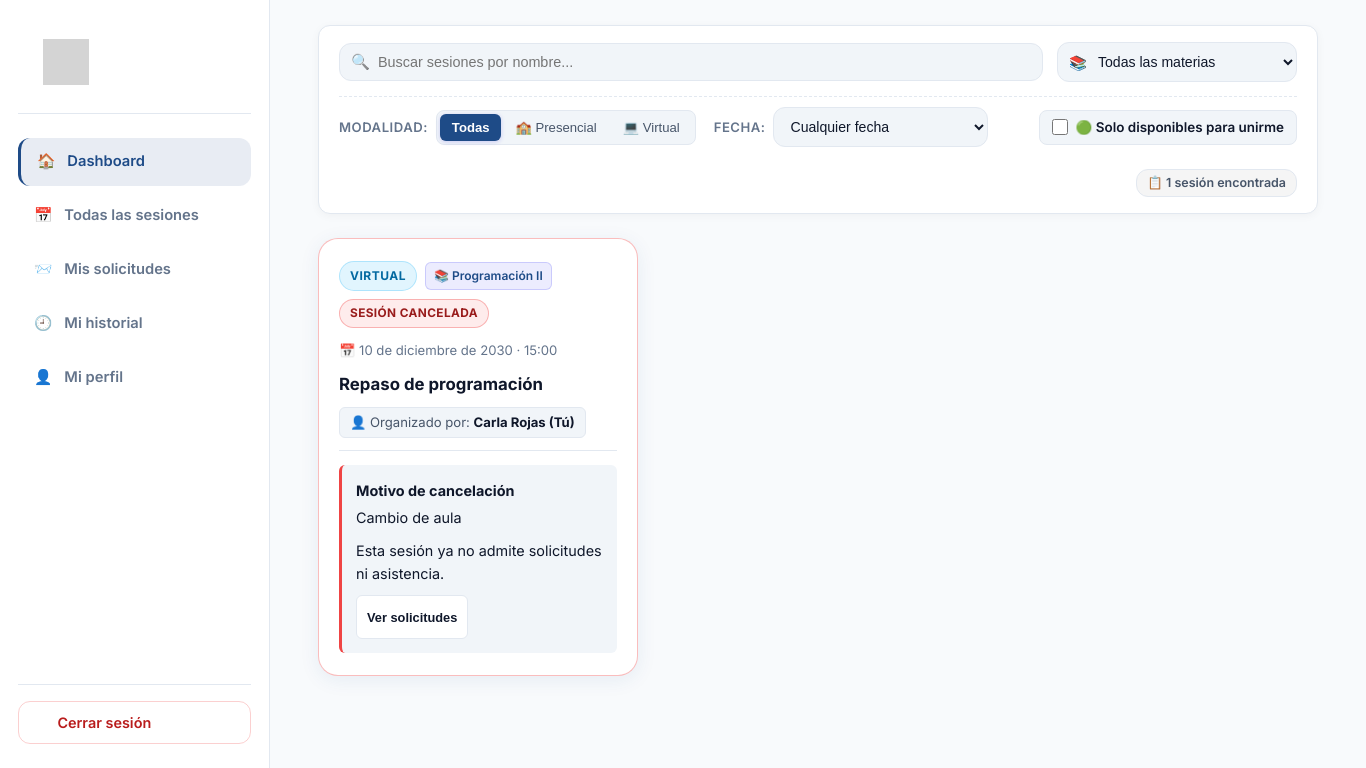
Scenario: la sesión cancelada ofrece el historial de solicitudes sin acciones de aprobación
The image size is (1366, 768).
(page scrolled)
Click the button "Ver solicitudes" at (412, 617), box [356,595,468,639]
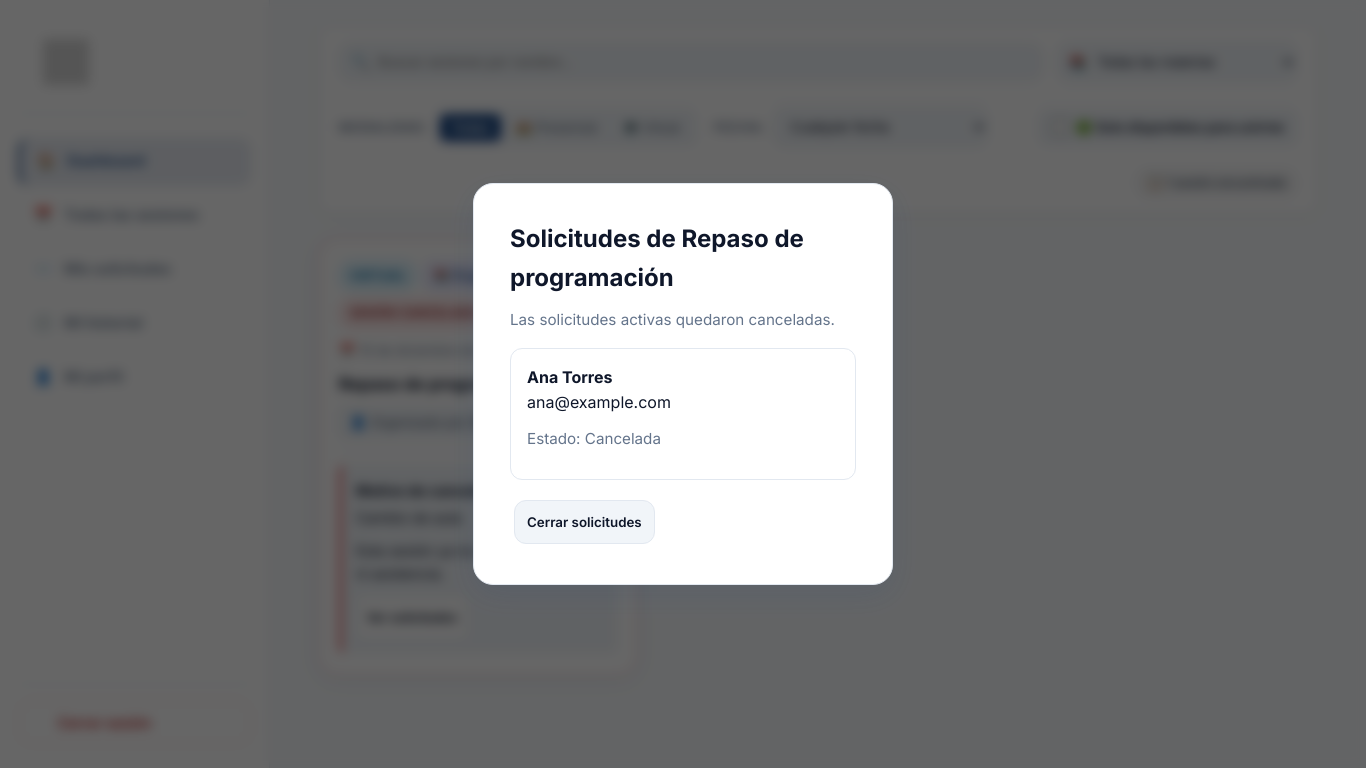
expect the text "Estado: Cancelada" is shown: met, box [527,429,661,448]
